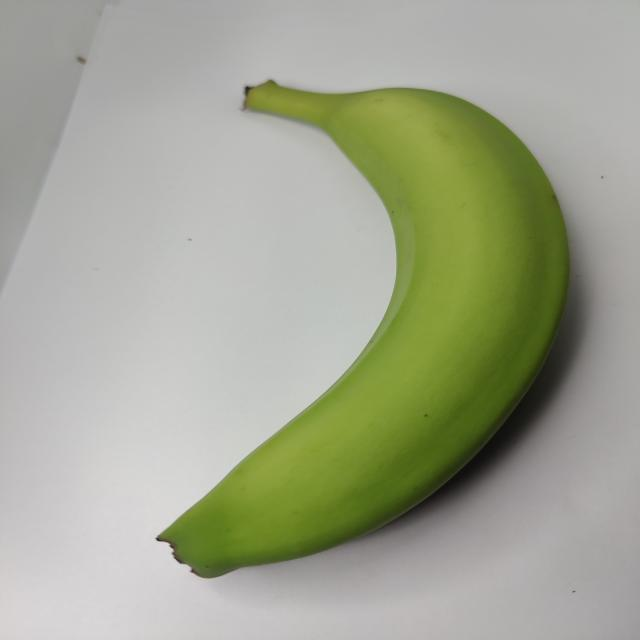raw: (115, 61, 578, 588)
